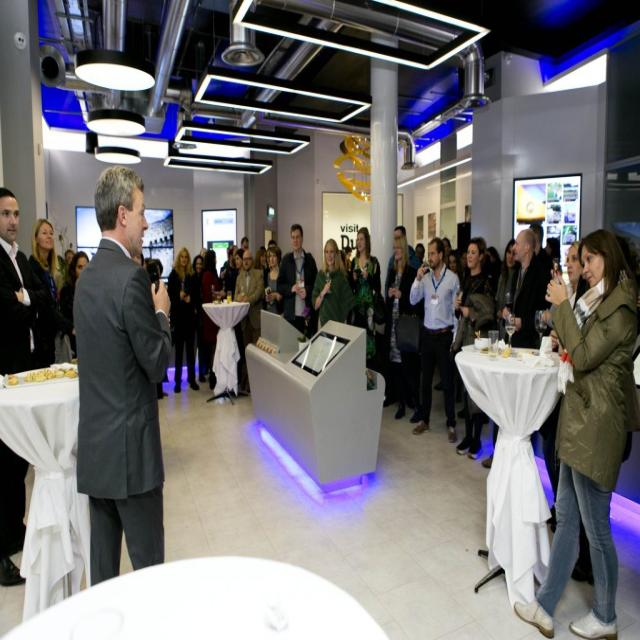body: (508, 225, 640, 639), (74, 163, 171, 586), (562, 226, 640, 590), (0, 182, 52, 591), (407, 234, 461, 445), (453, 236, 493, 461), (384, 233, 424, 424), (27, 217, 74, 370), (165, 245, 201, 394), (275, 222, 319, 341), (502, 228, 544, 350), (233, 248, 266, 394), (350, 226, 382, 370), (311, 237, 358, 333), (198, 247, 225, 389), (58, 250, 91, 362), (187, 238, 212, 382), (494, 237, 521, 341), (384, 224, 419, 300), (127, 240, 165, 303), (219, 236, 249, 308), (479, 229, 506, 302), (252, 230, 278, 302), (48, 239, 78, 299), (262, 244, 284, 316), (230, 322, 250, 398), (440, 234, 470, 283), (528, 224, 554, 278), (566, 238, 583, 314), (540, 229, 564, 281), (333, 238, 358, 278), (456, 391, 472, 429), (414, 240, 430, 274), (448, 248, 463, 279), (563, 210, 576, 241), (441, 237, 452, 264)
